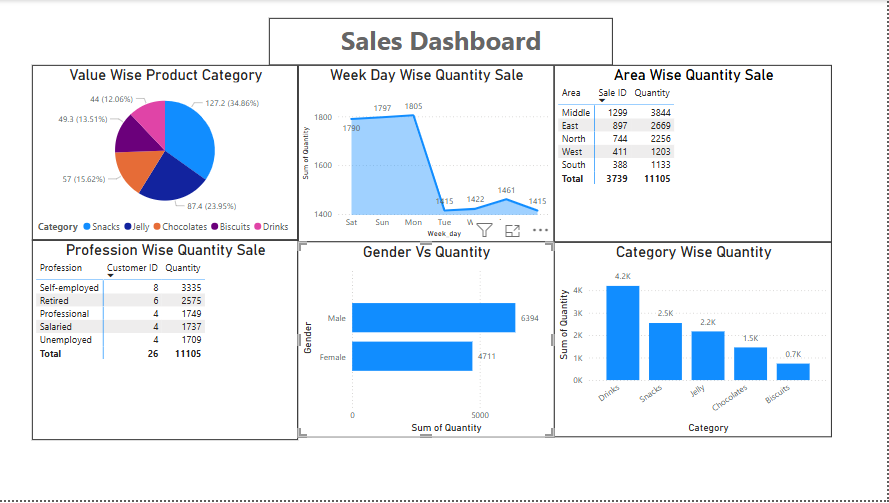

Layout of this report page (visuals, bound fields, positions):
{"tool":"powerbi","page":{"name":"Page 1","canvas":[1280,720],"ordinal":0},"visuals":[{"type":"columnChart","title":" Category Wise Quantity","fields":{"Category":["products.Category"],"Y":["Sum(sales.Quantity)"]},"box":[799.2,348.5,400.3,280.8],"z":0},{"type":"pivotTable","title":"Profession Wise Quantity Sale","fields":{"Rows":["Customers.Profession"],"Values":["Count(Customers.Customer ID)","Sum(sales.Quantity)"]},"box":[47.5,345.6,383,288],"z":1000},{"type":"pieChart","title":"Value Wise Product Category","fields":{"Category":["products.Category"],"Y":["Sum(products.Value)"]},"box":[47.5,93.6,383,252],"z":2000},{"type":"areaChart","title":" Week Day Wise Quantity Sale","fields":{"Category":["sales.Week_day"],"Y":["Sum(sales.Quantity)"]},"box":[430.6,93.6,368.6,254.9],"z":3000},{"type":"barChart","title":" Gender Vs Quantity","fields":{"Category":["Customers.Gender"],"Y":["Sum(sales.Quantity)"]},"box":[430.6,348.5,368.6,280.8],"z":4000},{"type":"pivotTable","title":" Area Wise Quantity Sale","fields":{"Rows":["Customers.Area"],"Values":["Count(sales.Sale ID)","Sum(sales.Quantity)"]},"box":[799.2,93.6,400.3,254.9],"z":5000},{"type":"textbox","box":[388.8,25.9,495.4,67.7],"z":6000}]}

Visuals, with their boxes in screenshot pixels (x1, y1, x2, y2), scaled from the page's 1280x720 canvas onto the 889x503 screenshot:
" Category Wise Quantity" columnChart: select_region(555, 243, 833, 440)
"Profession Wise Quantity Sale" pivotTable: select_region(33, 241, 299, 443)
"Value Wise Product Category" pieChart: select_region(33, 65, 299, 241)
" Week Day Wise Quantity Sale" areaChart: select_region(299, 65, 555, 243)
" Gender Vs Quantity" barChart: select_region(299, 243, 555, 440)
" Area Wise Quantity Sale" pivotTable: select_region(555, 65, 833, 243)
textbox: select_region(270, 18, 614, 65)
